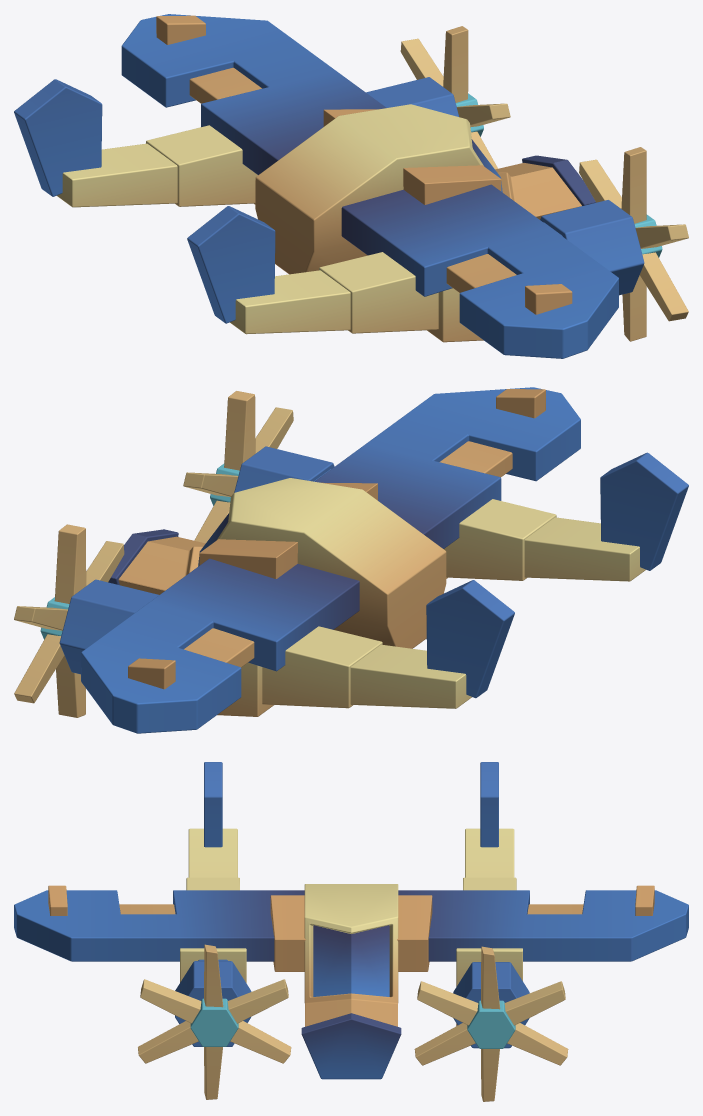
File: enemi3.glb
The picture shows the model from 3 angles, top to bottom: view 1: azimuth 30°, elevation 25°; view 2: azimuth 150°, elevation 25°; view 3: azimuth 270°, elevation 25°; orthographic projection. The views are drawn at different scales.
Parts seen in each view (by area): view 1: Cube.076, Cube.080, Cube.075, Cube.089, Cylinder.015, Cube.078, Cube.077, Cube.086, Cube.079, Cube.084, Cube.081, Cylinder.013 (+3 smaller); view 2: Cube.076, Cube.080, Cube.075, Cube.089, Cylinder.013, Cube.083, Cube.078, Cube.077, Cylinder.015, Cube.079, Cube.086, Cube.084 (+4 smaller); view 3: Cube.076, Cube.075, Cube.080, Cube.087, Cube.077, Cube.089, Cube.081, Cube.084, Cube.085, Cube.082, Cube.086, Cube.083 (+6 smaller).
Boxes of the visible parts, box(x1,y1,x2,y2) form: Cube.076: box(121, 14, 618, 358); Cube.080: box(57, 125, 483, 342); Cube.075: box(255, 104, 581, 274); Cube.089: box(14, 79, 275, 323); Cylinder.015: box(540, 200, 644, 295); Cube.078: box(189, 67, 516, 292); Cube.077: box(323, 109, 501, 204); Cube.086: box(621, 147, 646, 341); Cube.079: box(156, 15, 572, 314); Cube.084: box(579, 159, 688, 248); Cube.081: box(400, 38, 510, 127); Cylinder.013: box(366, 77, 459, 116); Cube.076: box(81, 387, 580, 733); Cube.080: box(217, 499, 645, 716); Cube.075: box(118, 478, 446, 648); Cube.089: box(426, 452, 688, 698); Cylinder.013: box(59, 579, 158, 674); Cube.083: box(54, 524, 86, 717); Cube.078: box(184, 441, 512, 667); Cube.077: box(199, 482, 377, 578); Cylinder.015: box(234, 446, 334, 492); Cube.079: box(128, 389, 545, 689); Cube.086: box(224, 391, 255, 470); Cube.084: box(183, 407, 293, 496); Cube.076: box(14, 890, 688, 961); Cube.075: box(304, 884, 398, 1026); Cube.080: box(180, 828, 522, 1025); Cube.087: box(301, 1013, 401, 1079); Cube.077: box(270, 895, 432, 971); Cube.089: box(204, 762, 498, 847); Cube.081: box(417, 981, 565, 1025); Cube.084: box(140, 979, 288, 1023); Cube.085: box(138, 1021, 291, 1063); Cube.082: box(414, 1023, 568, 1065); Cube.086: box(204, 944, 223, 1099); Cube.083: box(481, 946, 500, 1101).
Bounding box in the file's own units: 11.32 × 5.35 × 17.92.
Materials: 1 (1 with a texture image).
